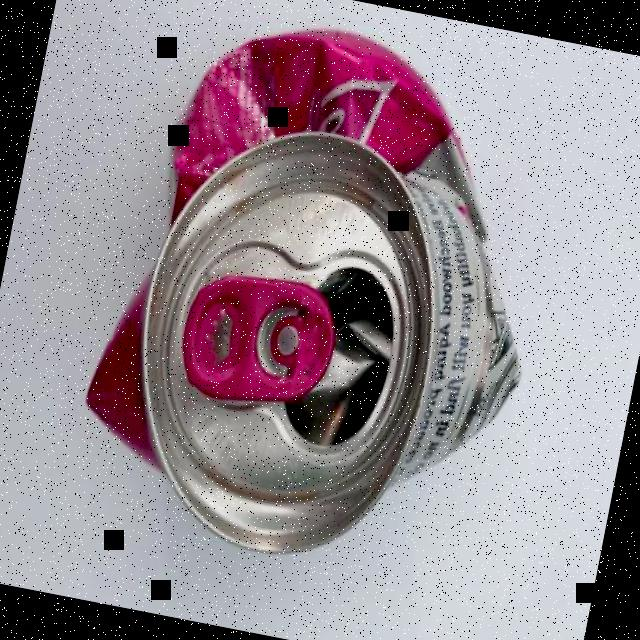can: (56, 0, 586, 598)
